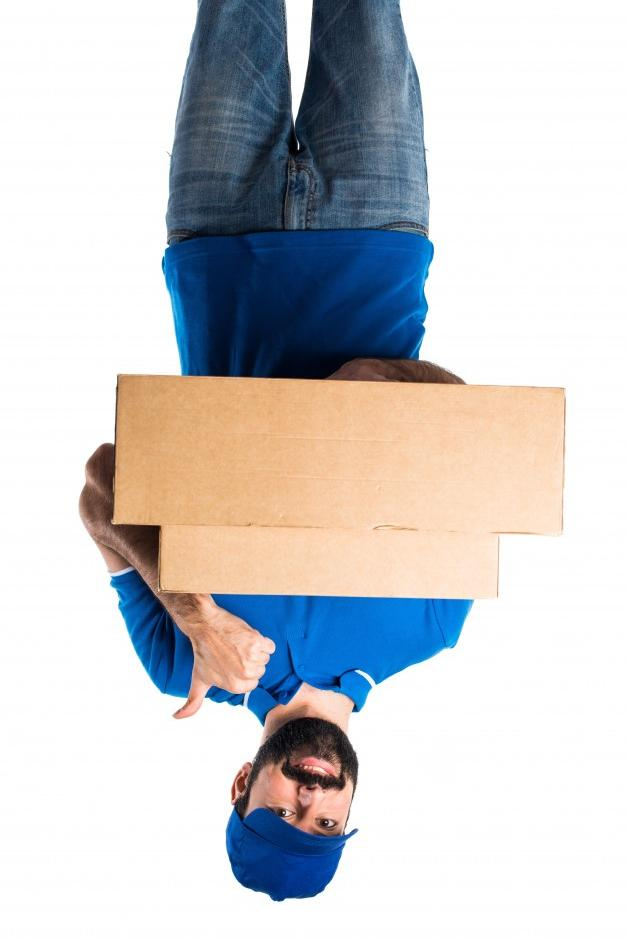thumbsdown: (172, 633, 276, 720)
